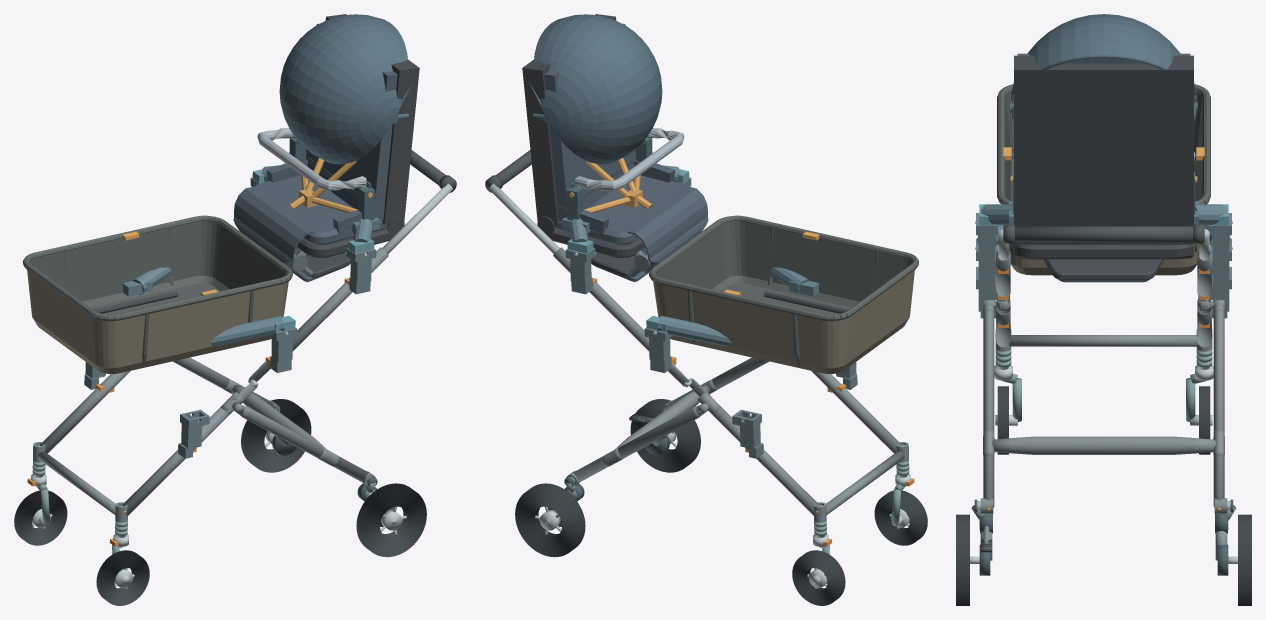
File: D14_w550_state1_wheel_S.glb
3 renders of one model, left to right at view 1: azimuth 30°, elevation 25°; view 2: azimuth 150°, elevation 25°; view 3: azimuth 270°, elevation 25°, orthographic. The views are drawn at different scales.
Visible parts, largest first — view 1: D14_Upper, D14_Lower, RL_tire.002, RR_tire.002, D14_Lower_Mount_M, FL_tire.002, FR_tire.002, V46_rear_leg_-1.003, main_lower_-1.003, main_lower_1.003, main_upper_-1.003, D14_Upper_Mount_H (+7 smaller); view 2: D14_Upper, D14_Lower, RR_tire.002, RL_tire.002, D14_Lower_Mount_M, FR_tire.002, FL_tire.002, V46_rear_leg_1.003, main_lower_1.003, main_lower_-1.003, main_upper_1.003, D14_Upper_Mount_H (+7 smaller); view 3: D14_Upper, D14_Lower, V46_rearbar.003, round_handle.002, front_fixed_round_tube.002, V46_rear_leg_1.003, V46_rear_leg_-1.003, D14_Upper_Mount_H, RL_tire.002, RR_tire.002, Universal_Cabin_Receiver_H_1, Universal_Cabin_Receiver_H_-1 (+8 smaller).
Boxes of the visible parts, x1,y1,x2,y2 form: D14_Upper: (233, 14, 419, 282); D14_Lower: (23, 215, 292, 373); RL_tire.002: (356, 483, 426, 557); RR_tire.002: (241, 399, 311, 472); D14_Lower_Mount_M: (122, 267, 295, 346); FL_tire.002: (96, 550, 149, 605); FR_tire.002: (14, 490, 67, 545); V46_rear_leg_-1.003: (240, 406, 368, 482); main_lower_-1.003: (122, 407, 232, 515); main_lower_1.003: (40, 371, 130, 453); main_upper_-1.003: (271, 247, 388, 356); D14_Upper_Mount_H: (252, 165, 379, 255); D14_Upper: (522, 14, 708, 282); D14_Lower: (649, 215, 918, 373); RR_tire.002: (515, 483, 585, 557); RL_tire.002: (630, 399, 700, 472); D14_Lower_Mount_M: (646, 267, 819, 346); FR_tire.002: (792, 550, 845, 605); FL_tire.002: (874, 490, 927, 545); V46_rear_leg_1.003: (573, 406, 701, 482); main_lower_1.003: (709, 407, 819, 515); main_lower_-1.003: (811, 371, 901, 453); main_upper_1.003: (553, 247, 670, 356); D14_Upper_Mount_H: (562, 165, 689, 255); D14_Upper: (1010, 14, 1197, 282); D14_Lower: (997, 84, 1210, 275); V46_rearbar.003: (992, 436, 1215, 454); round_handle.002: (1003, 226, 1204, 241); front_fixed_round_tube.002: (1009, 335, 1198, 346); V46_rear_leg_1.003: (1213, 309, 1224, 507); V46_rear_leg_-1.003: (983, 309, 994, 507); D14_Upper_Mount_H: (975, 201, 1232, 225); RL_tire.002: (956, 514, 969, 605); RR_tire.002: (1238, 514, 1251, 605); Universal_Cabin_Receiver_H_1: (1210, 213, 1231, 274); Universal_Cabin_Receiver_H_-1: (976, 213, 997, 274).
Size of the model in its own units: 1.11 by 1.43 by 0.6471.
